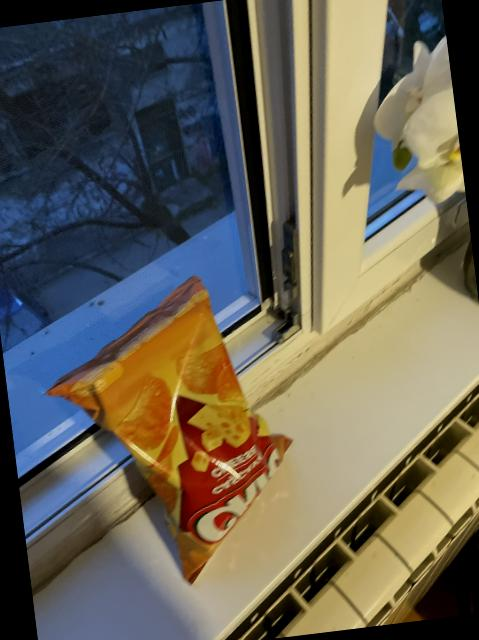Chio Cascaval 125g: (35, 269, 306, 596)
